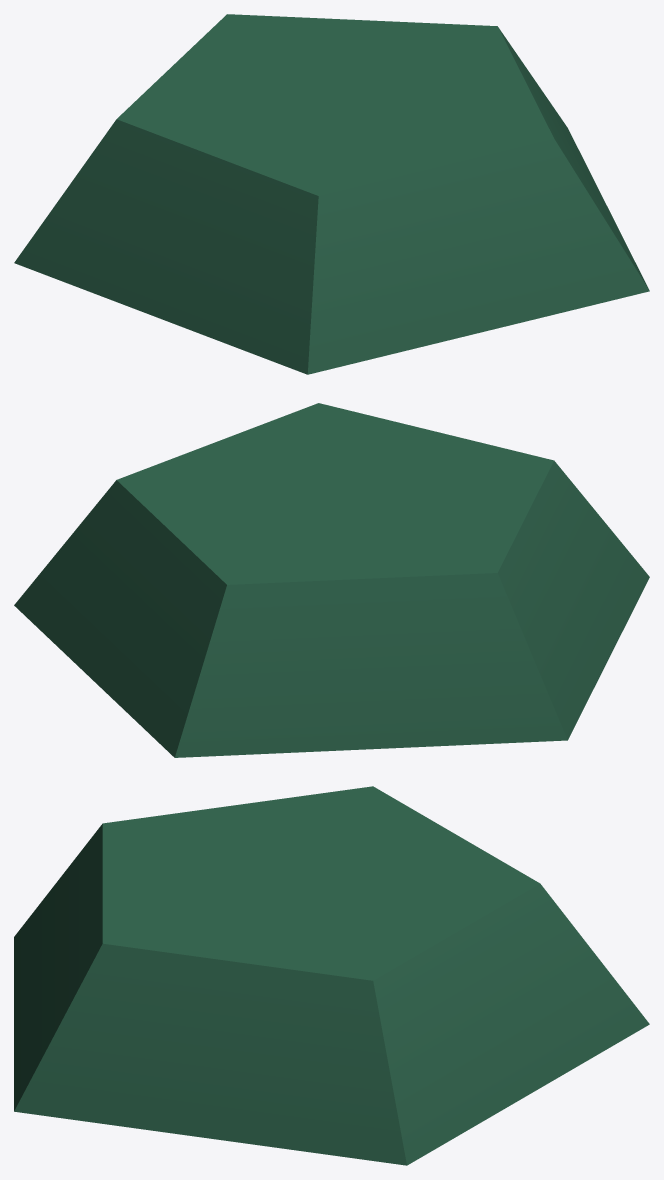
Rendered from rock-elf.glb.
The picture shows the model from 3 angles, top to bottom: view 1: azimuth 30°, elevation 25°; view 2: azimuth 150°, elevation 25°; view 3: azimuth 270°, elevation 25°; orthographic projection. The views are drawn at different scales.
Parts seen in each view (by area): view 1: rock-elf; view 2: rock-elf; view 3: rock-elf.
Part boxes in pixels (x1,y1,x2,y2): rock-elf: (14, 14, 649, 374); rock-elf: (14, 403, 649, 757); rock-elf: (14, 786, 649, 1165).
Bounding box in the file's own units: 0.2982 × 0.0693 × 0.2836.
